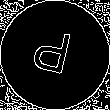P_S: (31, 26, 79, 84)
